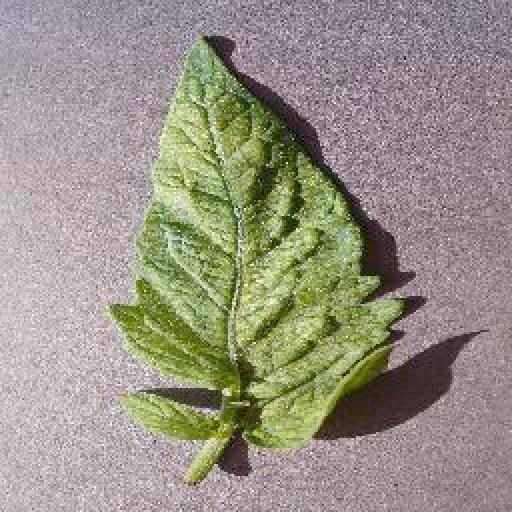disease_tomato: (110, 36, 402, 446)
